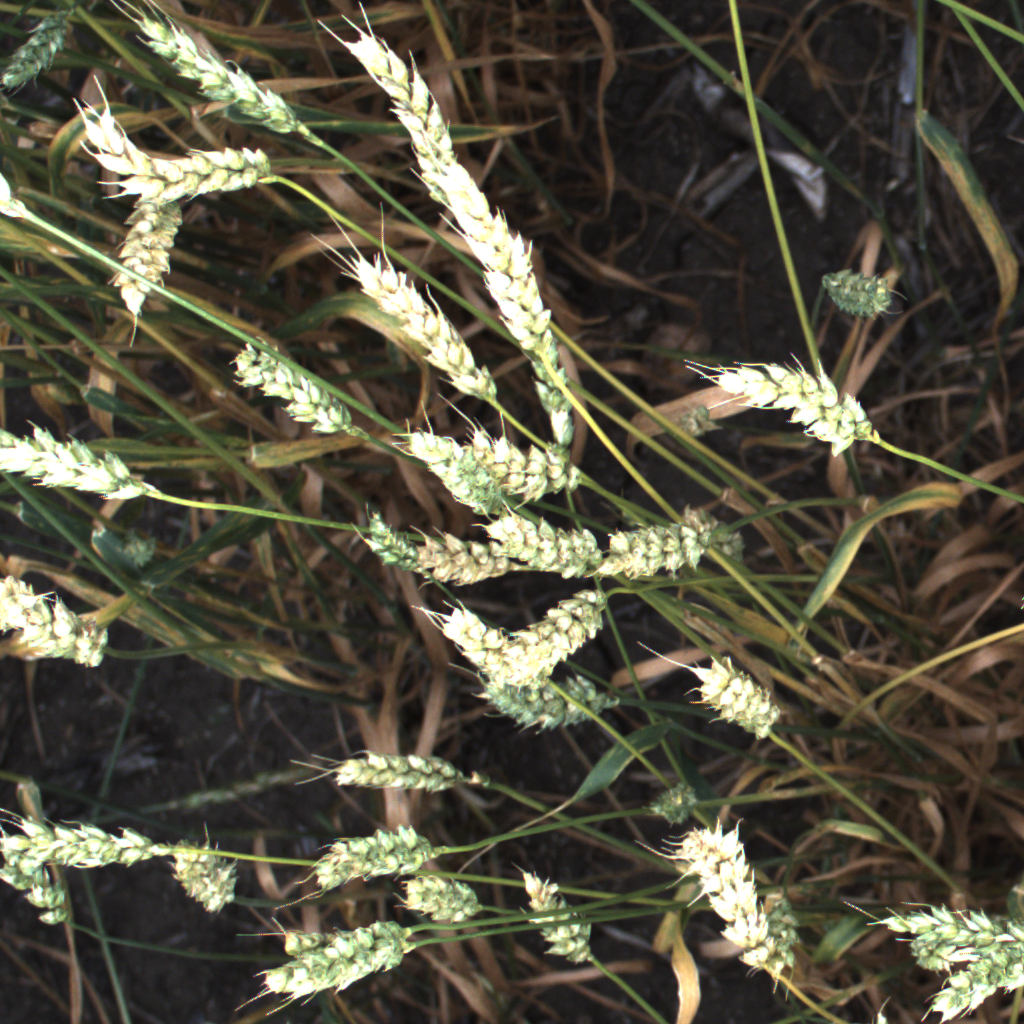wheat_head: (411, 128, 563, 357), (334, 8, 484, 218), (330, 249, 507, 409), (111, 3, 311, 143), (694, 335, 895, 466), (662, 809, 806, 989), (72, 106, 270, 204), (407, 590, 572, 704), (218, 333, 365, 443), (0, 410, 156, 513), (101, 171, 196, 327), (247, 922, 423, 1005), (480, 582, 621, 683), (586, 501, 743, 591), (0, 810, 182, 884), (1, 564, 118, 678), (391, 412, 516, 518), (877, 889, 1024, 978), (679, 648, 796, 753), (299, 817, 453, 896), (464, 668, 632, 740), (508, 862, 615, 975), (318, 734, 486, 804), (467, 501, 607, 582), (469, 424, 586, 502), (0, 0, 88, 103), (348, 500, 450, 584), (264, 913, 429, 964), (515, 336, 588, 451), (408, 519, 526, 590), (0, 845, 88, 940), (808, 249, 904, 335), (160, 834, 258, 918), (396, 864, 488, 939)
